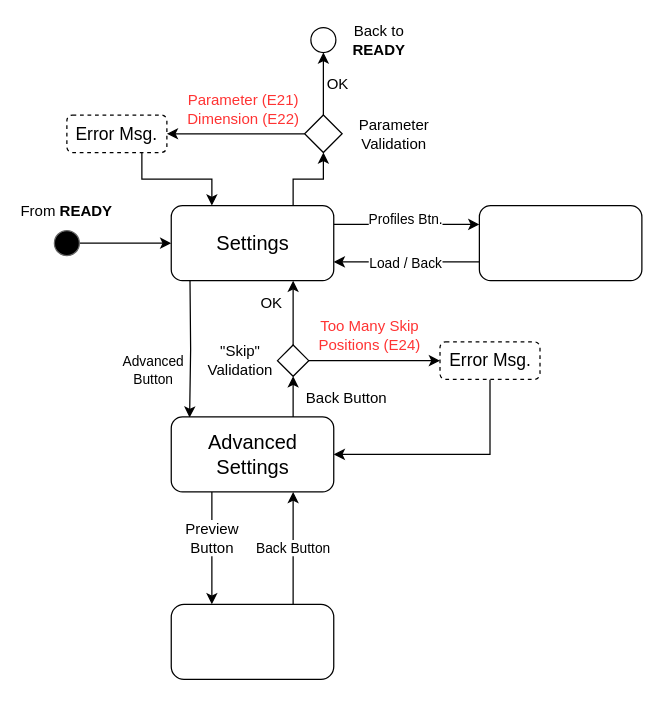
This 664x701 diagram has some shape labels left out. Each missing label, with the box of its shape:
Preview: (170, 603, 334, 679)
Profiles: (478, 204, 642, 281)
